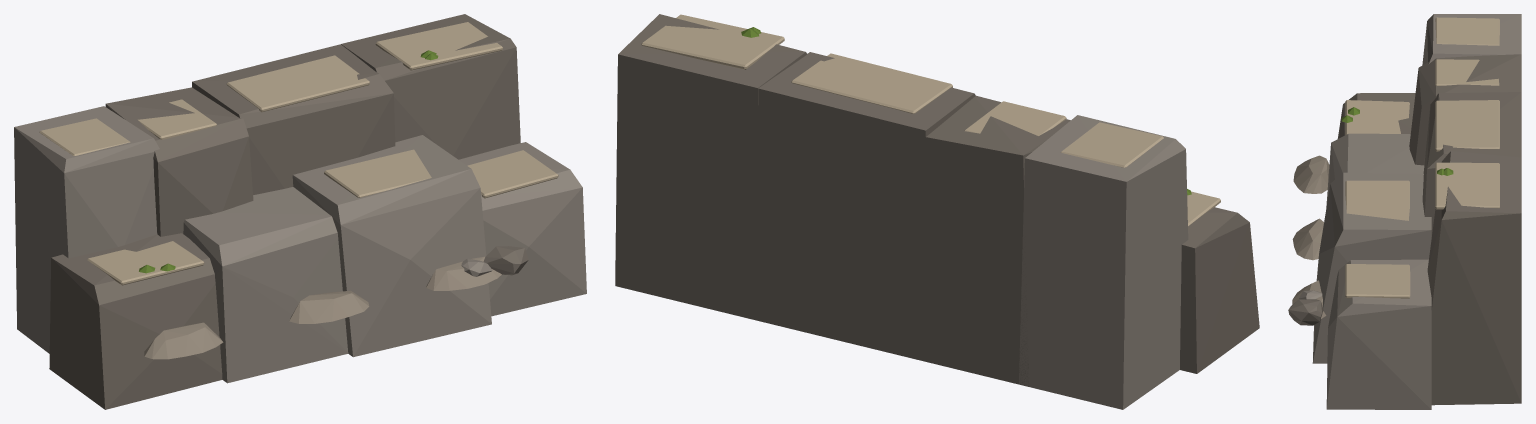
File: Strata_Low.fbx
The picture shows the model from 3 angles, left to right: view 1: azimuth 30°, elevation 25°; view 2: azimuth 150°, elevation 25°; view 3: azimuth 270°, elevation 25°; orthographic projection. The views are drawn at different scales.
Visible parts, largest first — view 1: Cliff, CliffDark, RockLight, Gravel; view 2: CliffDark, Cliff, RockLight; view 3: CliffDark, Cliff, RockLight, Gravel, Moss.
Boxes of the visible parts, x1=… form: Cliff: x1=14, y1=106, x2=586, y2=383; CliffDark: x1=49, y1=14, x2=528, y2=409; RockLight: x1=39, y1=22, x2=558, y2=285; Gravel: x1=144, y1=256, x2=501, y2=359; CliffDark: x1=615, y1=14, x2=1259, y2=386; Cliff: x1=1019, y1=115, x2=1188, y2=409; RockLight: x1=641, y1=14, x2=1220, y2=225; CliffDark: x1=1288, y1=54, x2=1521, y2=405; Cliff: x1=1299, y1=14, x2=1521, y2=409; RockLight: x1=1345, y1=17, x2=1499, y2=298; Gravel: x1=1292, y1=155, x2=1329, y2=318; Moss: x1=1341, y1=107, x2=1453, y2=175.
Bounding box in the file's own units: 28.42 × 12.3 × 12.97.
